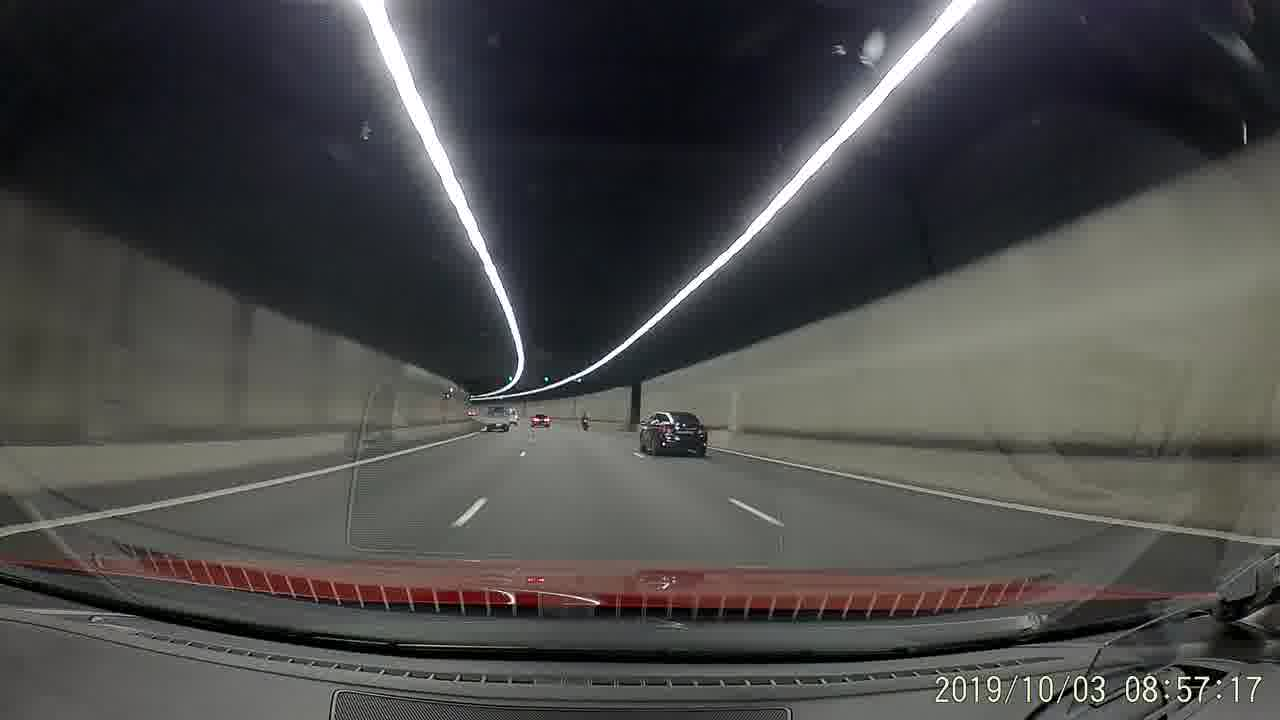car: (676, 405, 784, 470), (532, 410, 551, 425)
